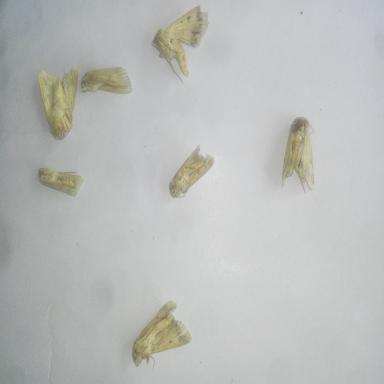abw: (149, 3, 211, 88), (131, 294, 193, 373), (34, 63, 83, 144), (279, 113, 317, 197), (167, 140, 216, 202), (36, 161, 86, 201), (78, 64, 134, 96)
